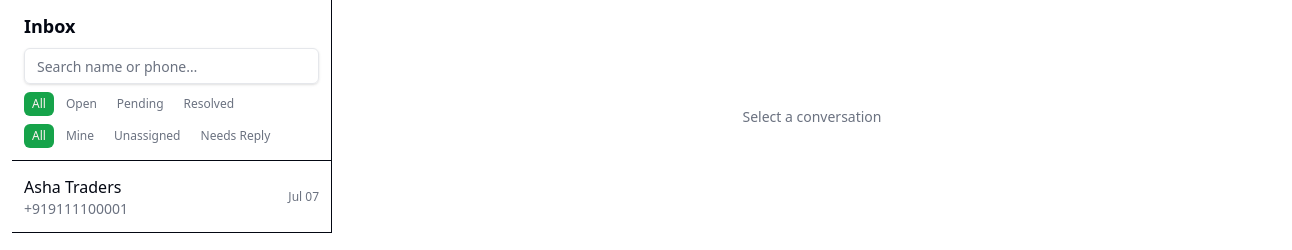
it: InboxPage › selecting a chat opens the conversation pane
This screenshot has width=1292, height=250.
Click the button with test id "chat-row". click: coordinates (73, 186)
box: [12,161,331,233]
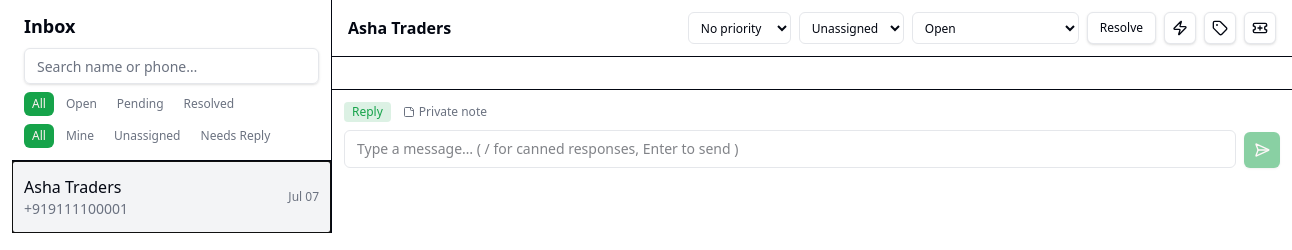
Check: the heading "Asha Traders" is shown, box [348,17,451,39]
